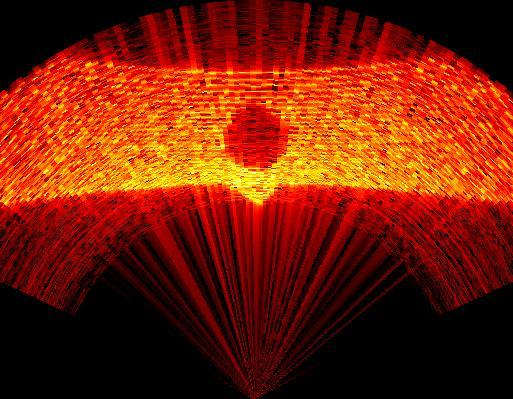box_crate: (221, 99, 294, 206)
